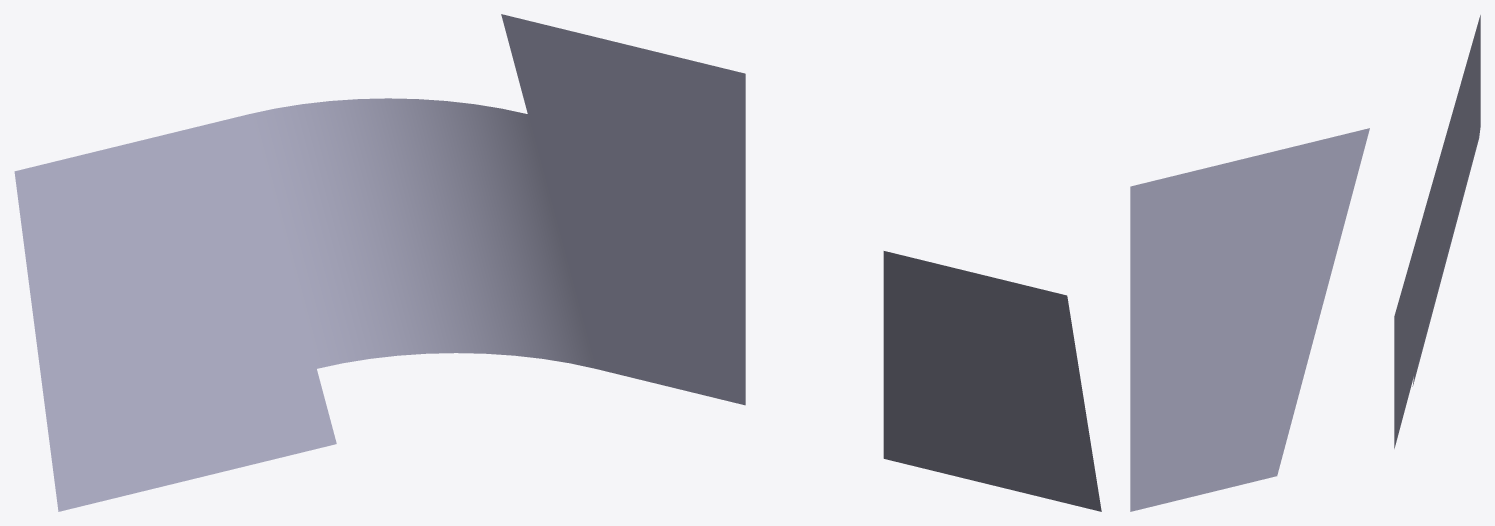
File: BaseSurface.gltf
The picture shows the model from 3 angles, left to right: view 1: azimuth 30°, elevation 25°; view 2: azimuth 150°, elevation 25°; view 3: azimuth 270°, elevation 25°; orthographic projection. The views are drawn at different scales.
Bounding box in the file's own units: 30.1 × 20.93 × 16.85.
